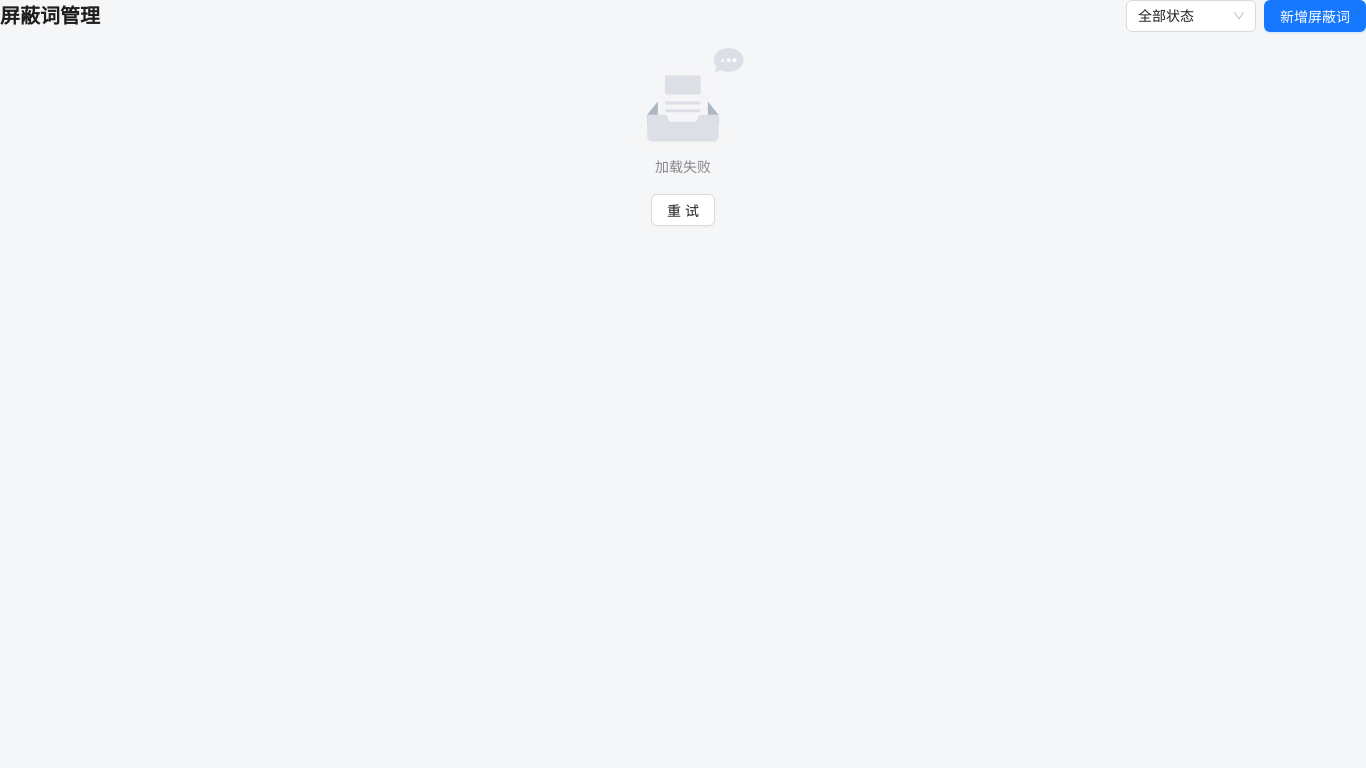
BlockedWordListPage › 新增屏蔽词带幂等键；重复词 409 行内提示且弹窗保持打开
# 第一次：创建成功
Click the button "新增屏蔽词". click: (1315, 16)
box: [1264, 0, 1365, 32]
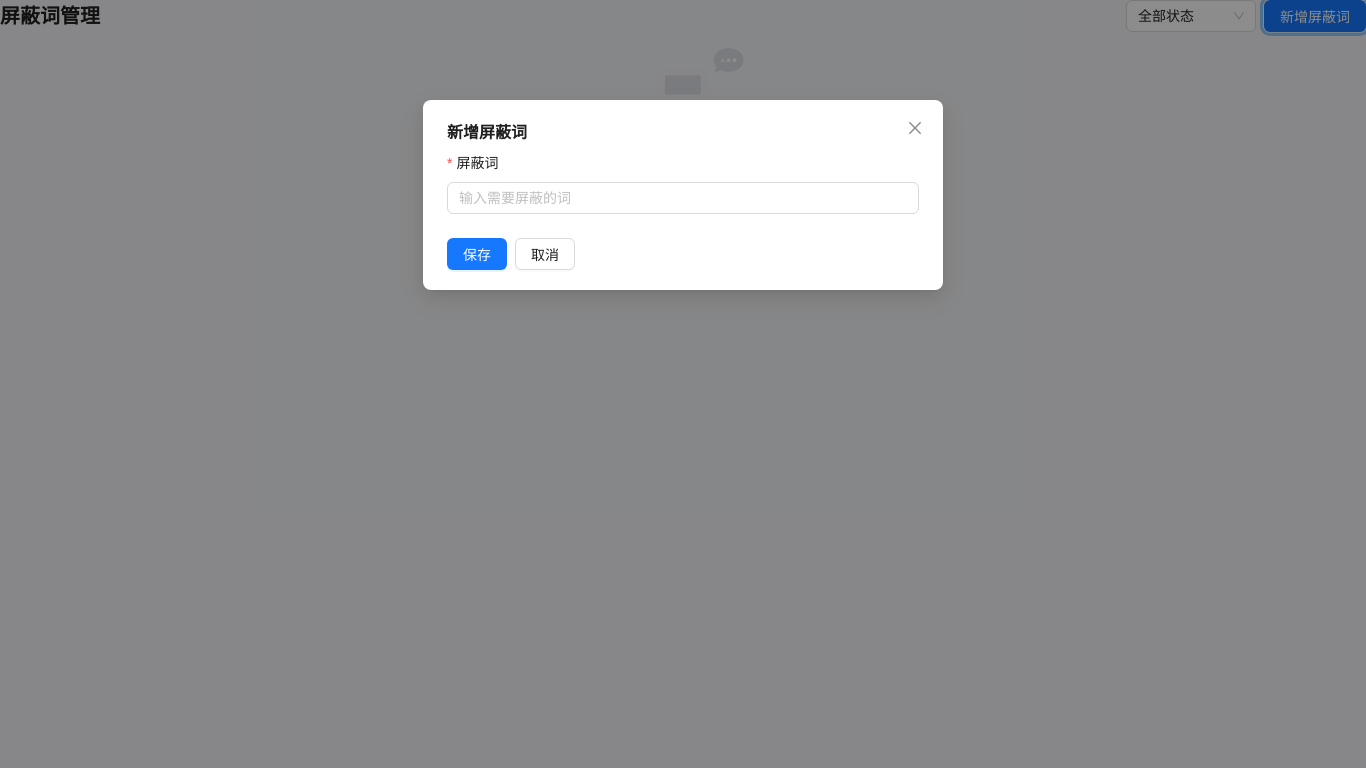
Type "替考" into the field with placeholder "输入需要屏蔽的词". click: (683, 198)
box: [447, 182, 919, 214]
Click the button "保存". click: (477, 254)
box: [447, 238, 507, 270]
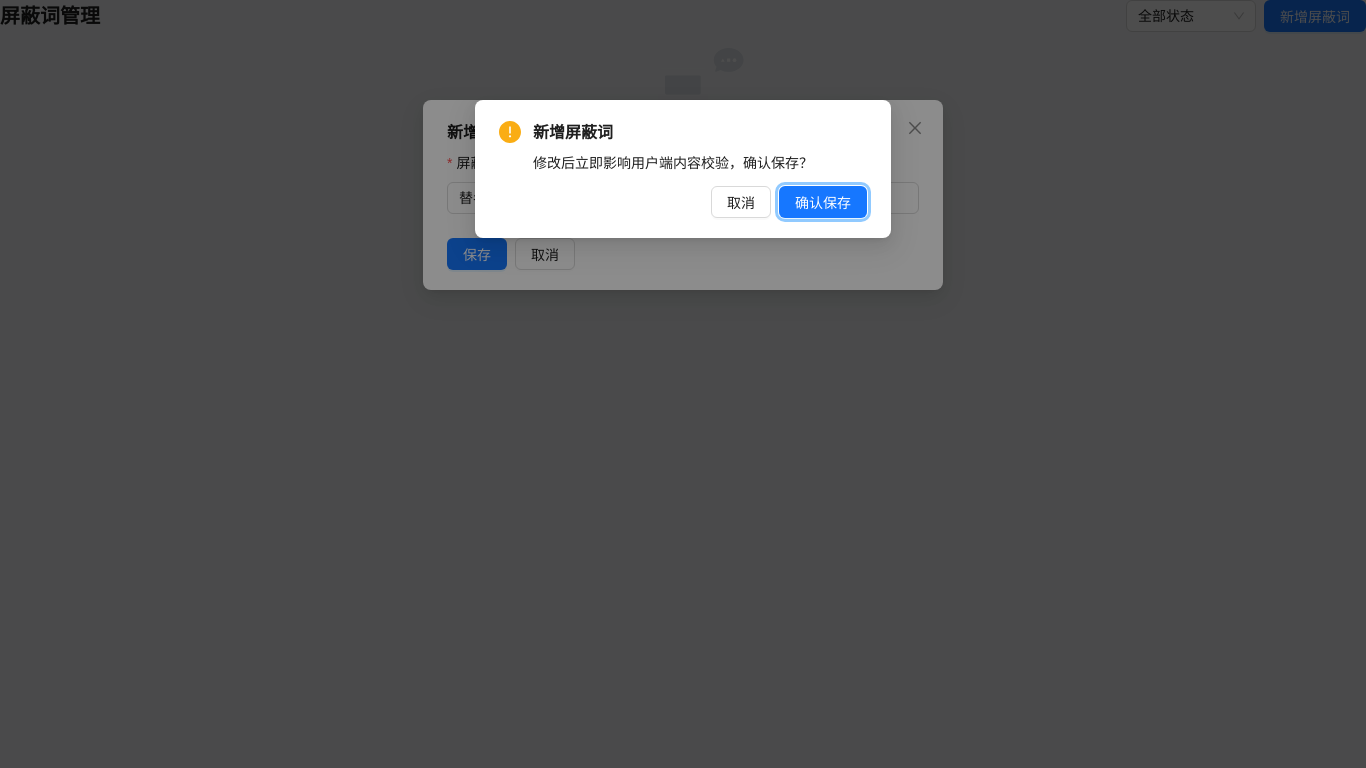
Click the button "确认保存". click: (823, 202)
box: [779, 186, 867, 218]
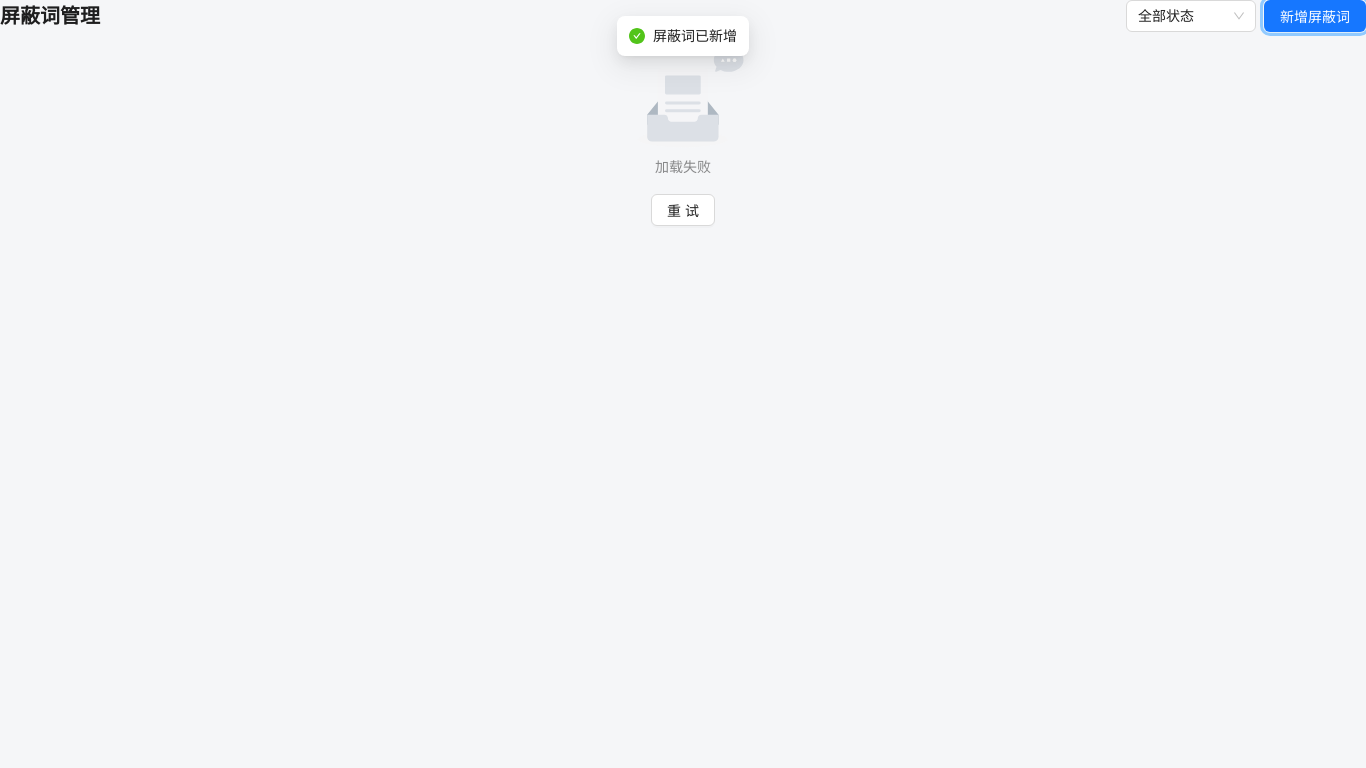
# 第二次：重复词，行内报错
Click the button "新增屏蔽词". click: (1315, 16)
box: [1264, 0, 1365, 32]
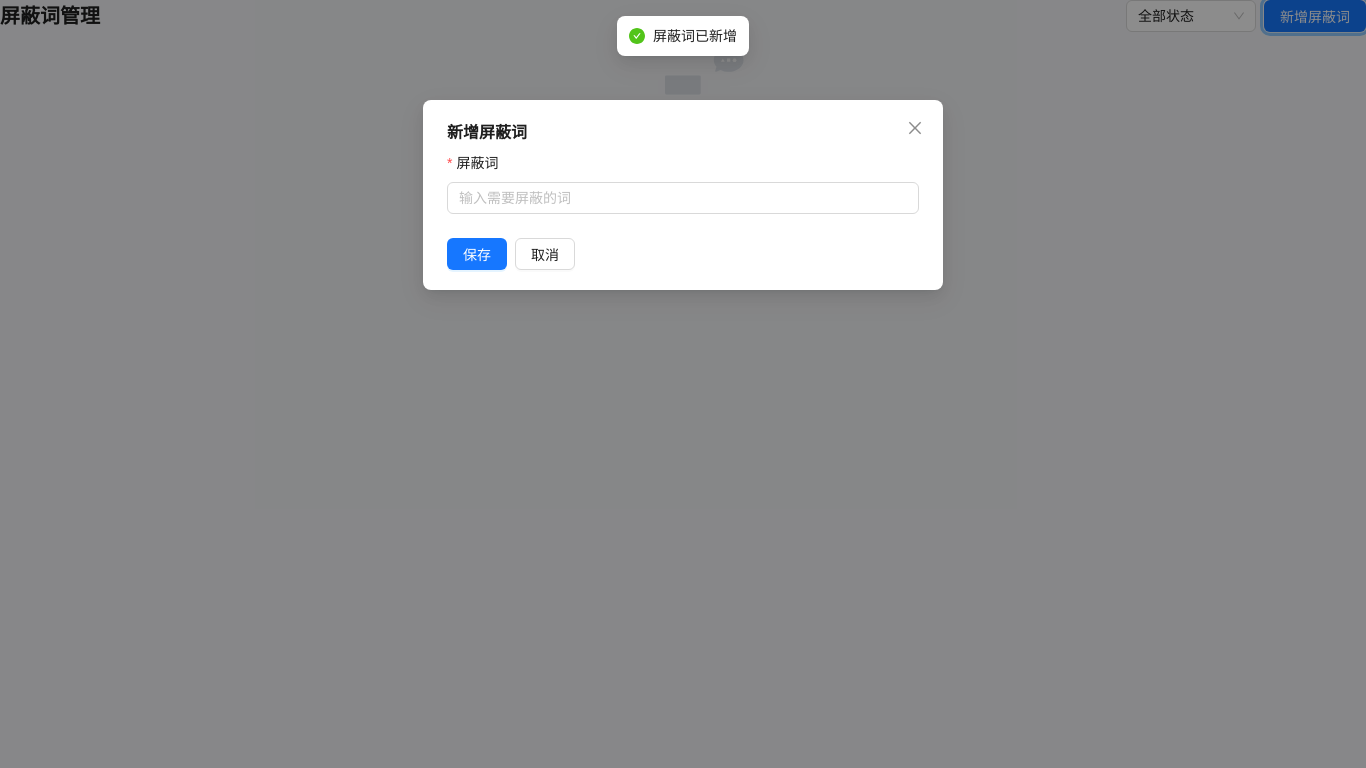
Type "替考" into the field with placeholder "输入需要屏蔽的词". click: (683, 198)
box: [447, 182, 919, 214]
Click the button "保存". click: (477, 254)
box: [447, 238, 507, 270]
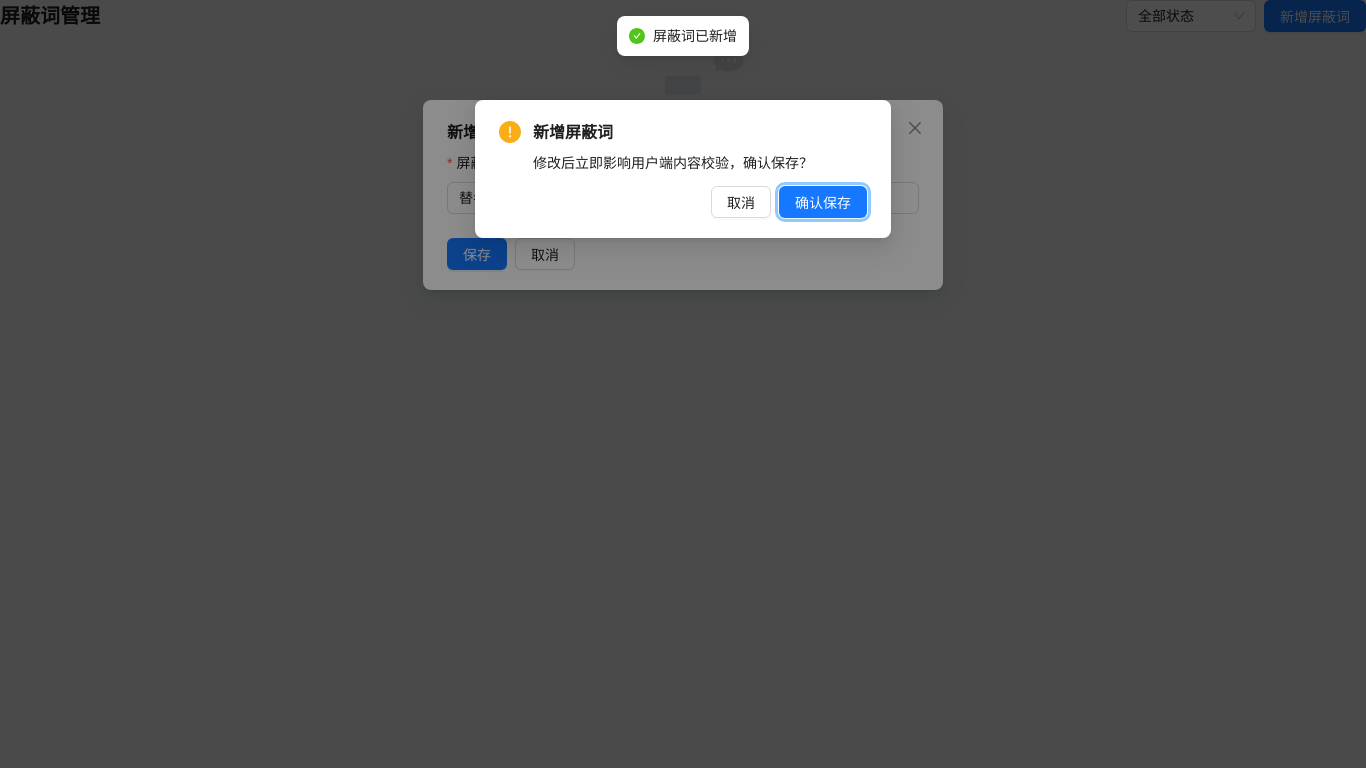
Click the button "确认保存". click: (823, 202)
box: [779, 186, 867, 218]
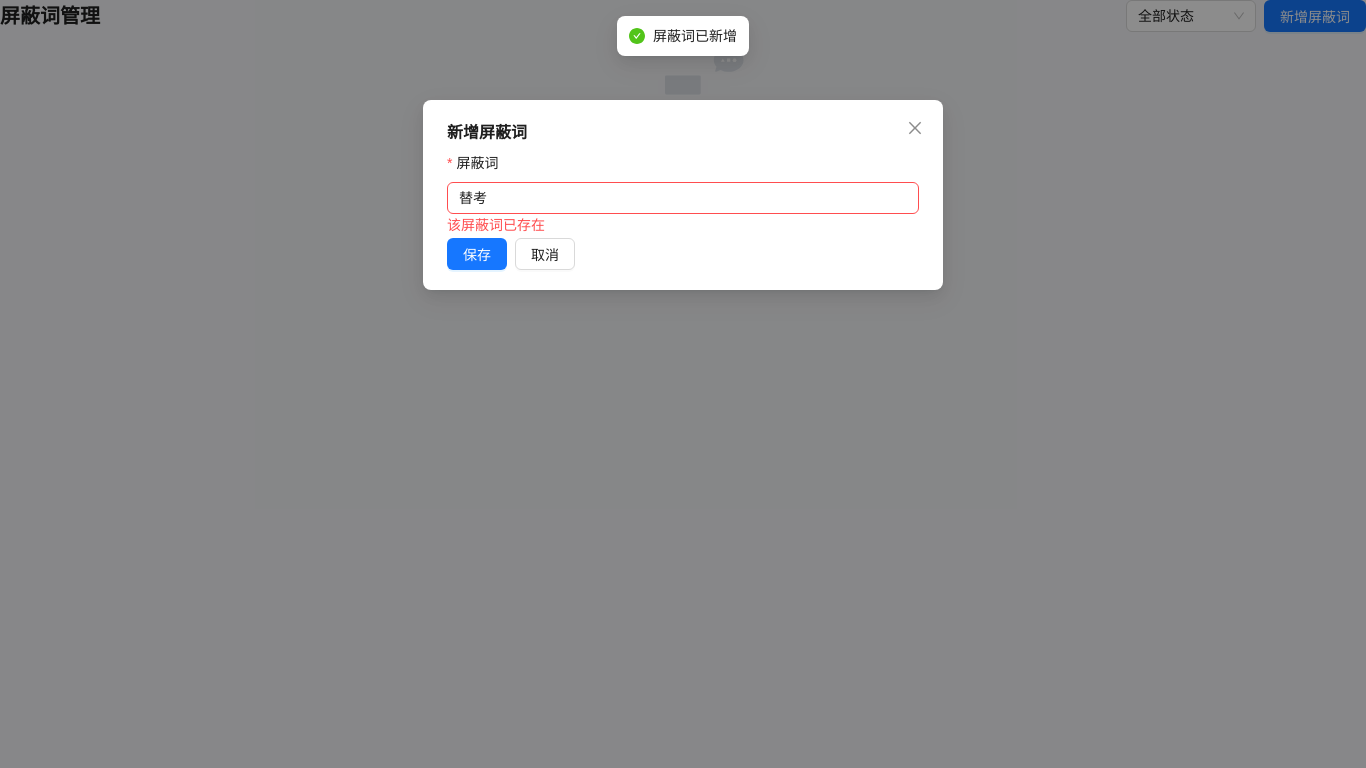
expect the text "该屏蔽词已存在" is shown: met, box [447, 216, 545, 233]
